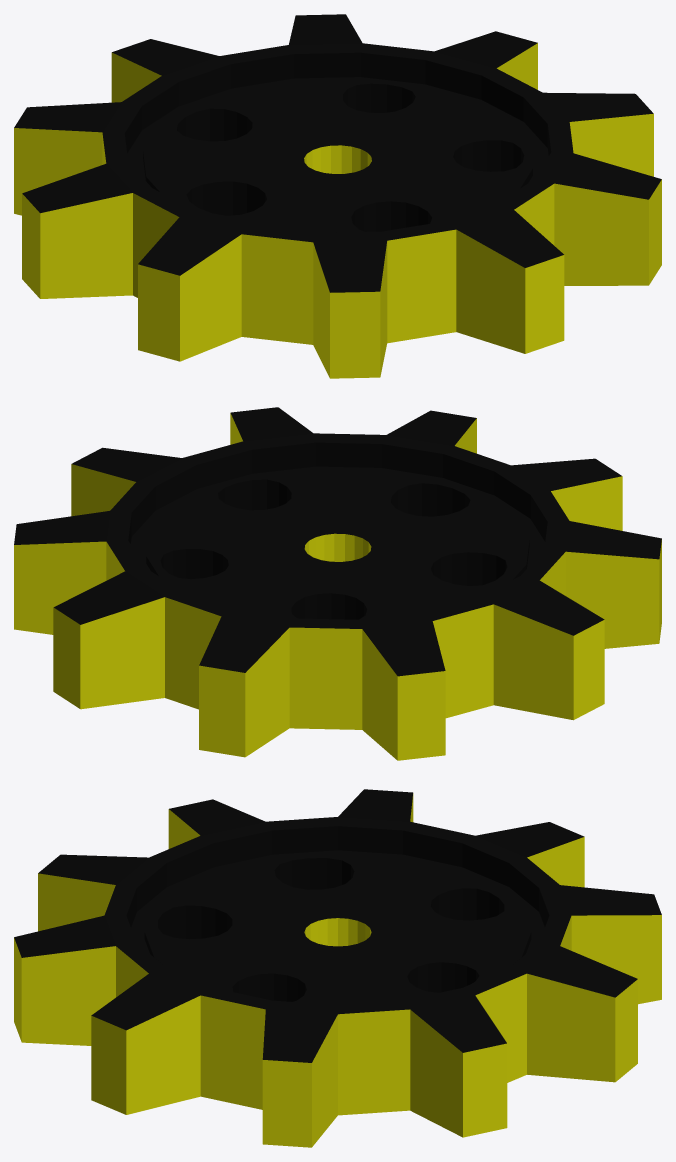
Rendered from D1GearV3.fbx.
The picture shows the model from 3 angles, top to bottom: view 1: azimuth 30°, elevation 25°; view 2: azimuth 150°, elevation 25°; view 3: azimuth 270°, elevation 25°; orthographic projection.
Visible parts, largest first — view 1: D1GearV3; view 2: D1GearV3; view 3: D1GearV3.
Part boxes in pixels (left/top/right/bottom): D1GearV3: left=14, top=14, right=661, bottom=378; D1GearV3: left=14, top=407, right=661, bottom=760; D1GearV3: left=14, top=789, right=661, bottom=1147.
Size of the model in its own units: 2.77 by 0.4781 by 2.77.
